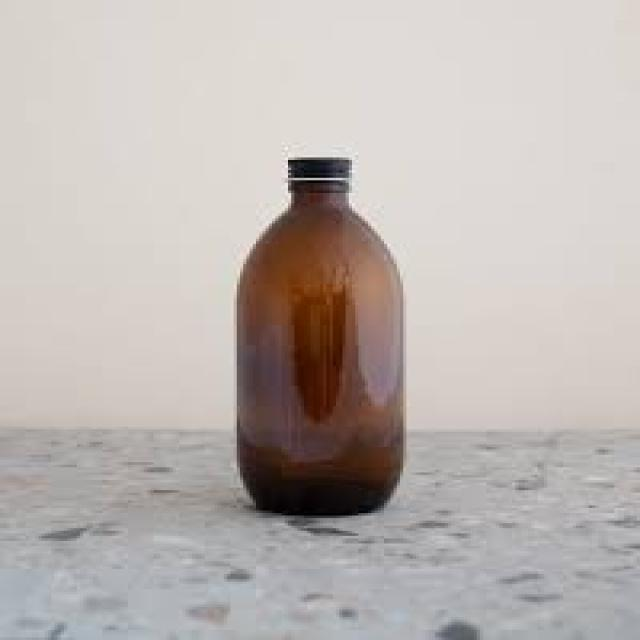glass: (237, 183, 400, 513)
